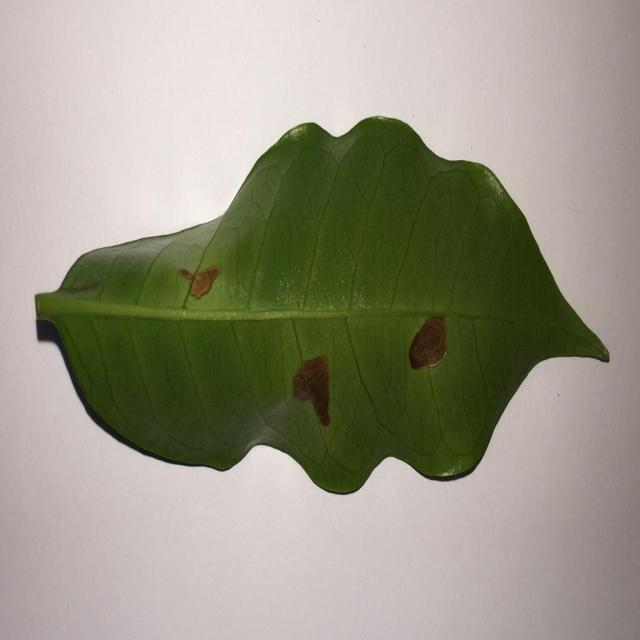Plaga-Minador: (32, 118, 610, 498)
